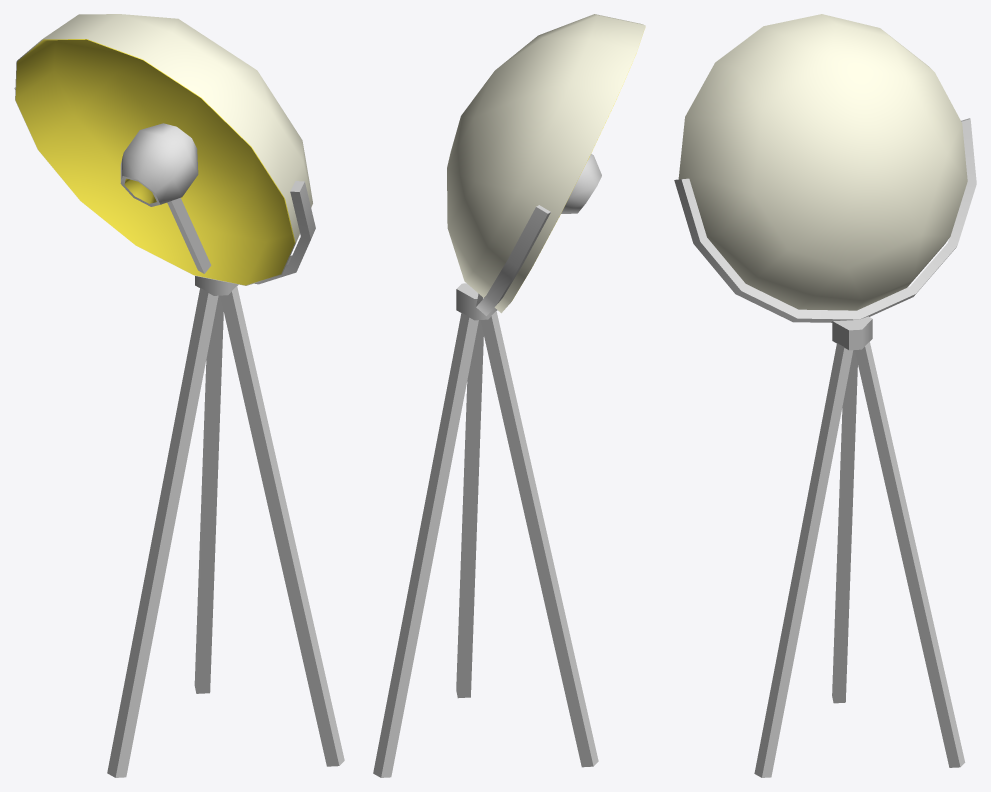
File: lamp_015.glb
3 renders of one model, left to right at view 1: azimuth 30°, elevation 25°; view 2: azimuth 150°, elevation 25°; view 3: azimuth 270°, elevation 25°, orthographic. The views are drawn at different scales.
Visible parts, largest first — view 1: lamp_015; view 2: lamp_015; view 3: lamp_015.
Part boxes in pixels (left/top/right/bottom): lamp_015: left=14, top=14, right=344, bottom=777; lamp_015: left=373, top=14, right=645, bottom=777; lamp_015: left=674, top=14, right=976, bottom=777.
Bounding box in the file's own units: 0.6201 × 1.91 × 0.7756.
Materials: 1 (1 with a texture image).
